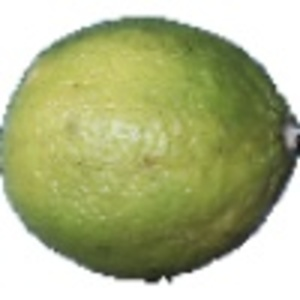limão: (1, 14, 300, 282)
